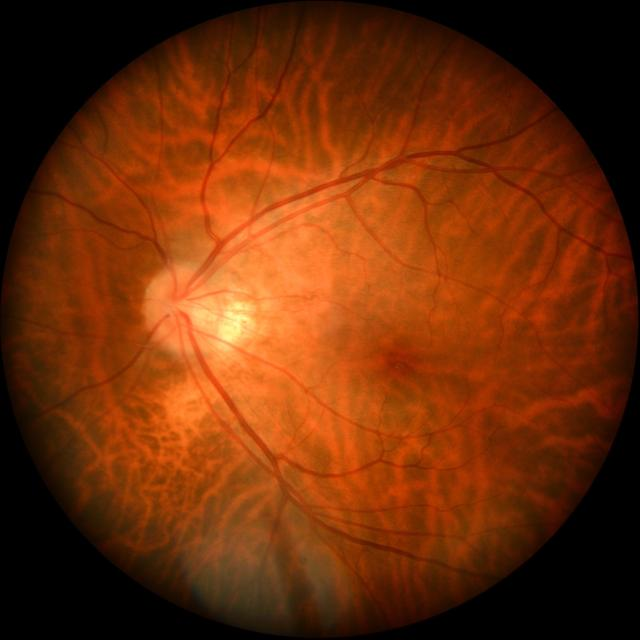OC: (168, 296, 190, 324)
OD: (144, 265, 219, 353)
